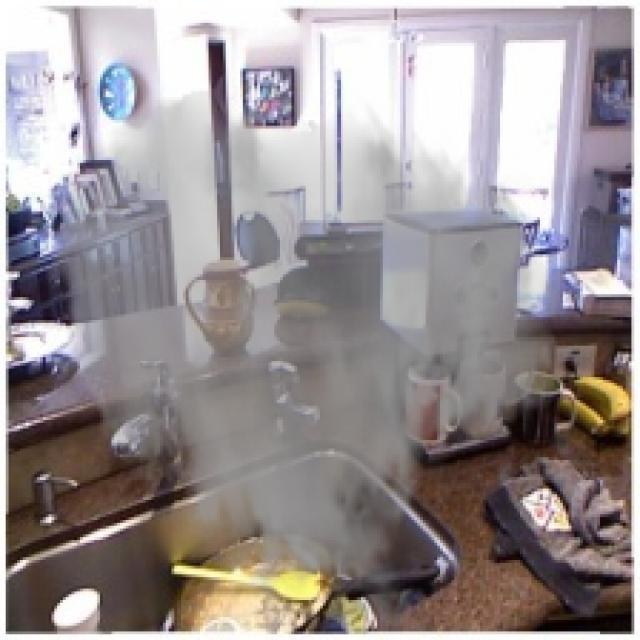Smoke: (43, 86, 563, 612)
